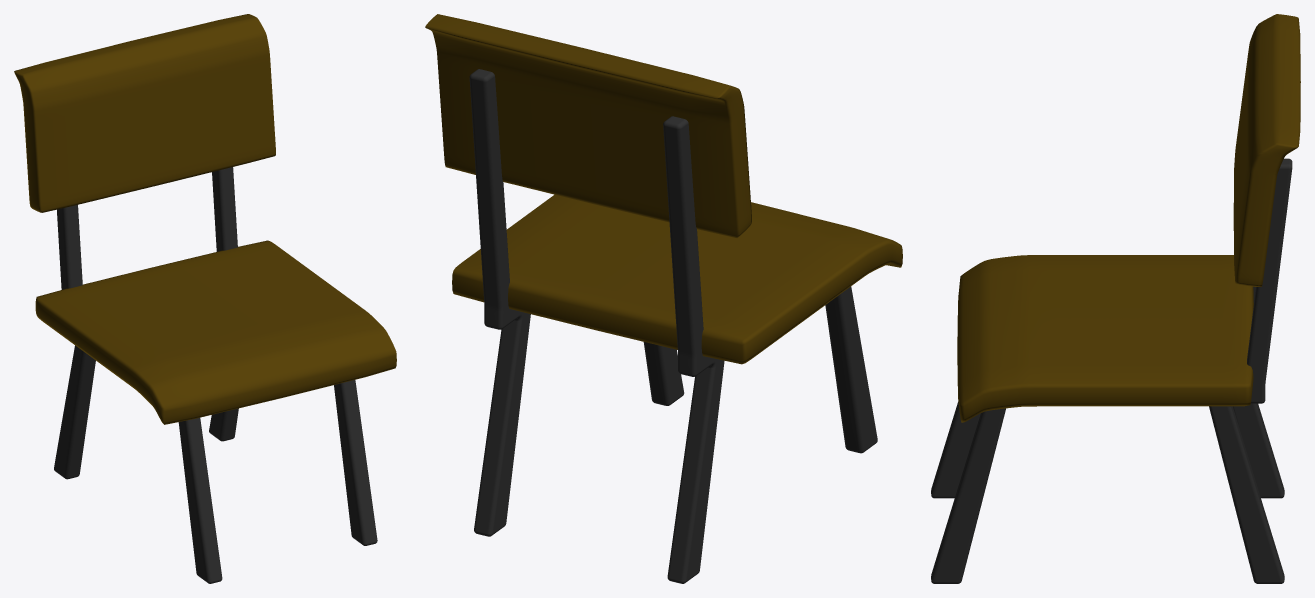
File: WoodenChair.fbx
3 renders of one model, left to right at view 1: azimuth 30°, elevation 25°; view 2: azimuth 150°, elevation 25°; view 3: azimuth 270°, elevation 25°, orthographic. The views are drawn at different scales.
Visible parts, largest first — view 1: polySurface23; view 2: polySurface23; view 3: polySurface23.
Part boxes in pixels (x1=…): polySurface23: x1=14, y1=14, x2=396, y2=583; polySurface23: x1=425, y1=14, x2=902, y2=583; polySurface23: x1=931, y1=14, x2=1300, y2=583.
Size of the model in its own units: 90.89 by 149 by 109.
